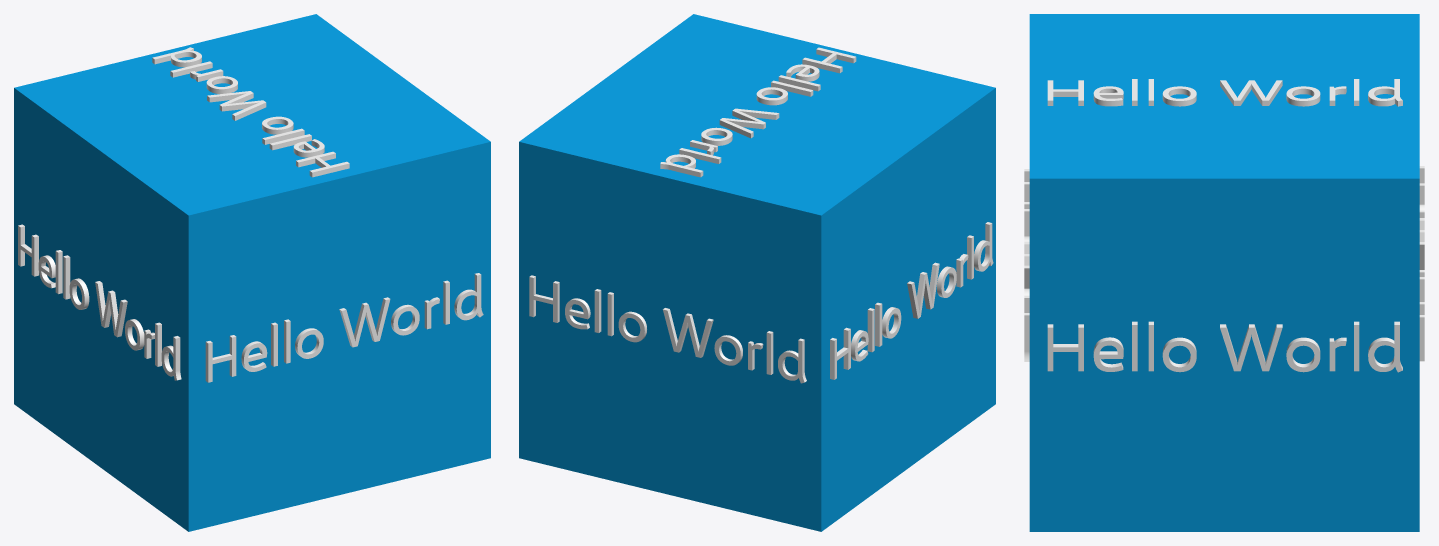
The model's file is Hello_World.fbx.
The picture shows the model from 3 angles, left to right: view 1: azimuth 30°, elevation 25°; view 2: azimuth 150°, elevation 25°; view 3: azimuth 270°, elevation 25°; orthographic projection. The views are drawn at different scales.
Parts seen in each view (by area): view 1: pCube1, typeMesh1, typeMesh3, typeMesh5; view 2: pCube1, typeMesh2, typeMesh3, typeMesh5; view 3: pCube1, typeMesh4, typeMesh5, typeMesh2, typeMesh1.
Part boxes in pixels (left/top/right/bottom): pCube1: left=14, top=14, right=490, bottom=531; typeMesh1: left=205, top=273, right=483, bottom=382; typeMesh3: left=18, top=224, right=181, bottom=380; typeMesh5: left=152, top=47, right=349, bottom=177; pCube1: left=519, top=14, right=995, bottom=531; typeMesh2: left=529, top=275, right=806, bottom=383; typeMesh3: left=830, top=222, right=993, bottom=379; typeMesh5: left=660, top=47, right=856, bottom=177; pCube1: left=1029, top=14, right=1419, bottom=531; typeMesh4: left=1047, top=321, right=1402, bottom=372; typeMesh5: left=1047, top=79, right=1402, bottom=106; typeMesh2: left=1419, top=166, right=1424, bottom=361; typeMesh1: left=1024, top=169, right=1029, bottom=361.
Bounding box in the file's own units: 288 × 286 × 285.
